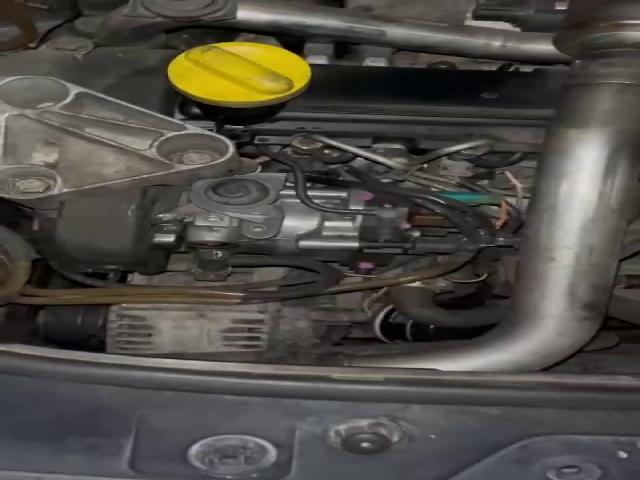alternator: (106, 303, 278, 354)
high_pressure_pump: (186, 188, 415, 274)
